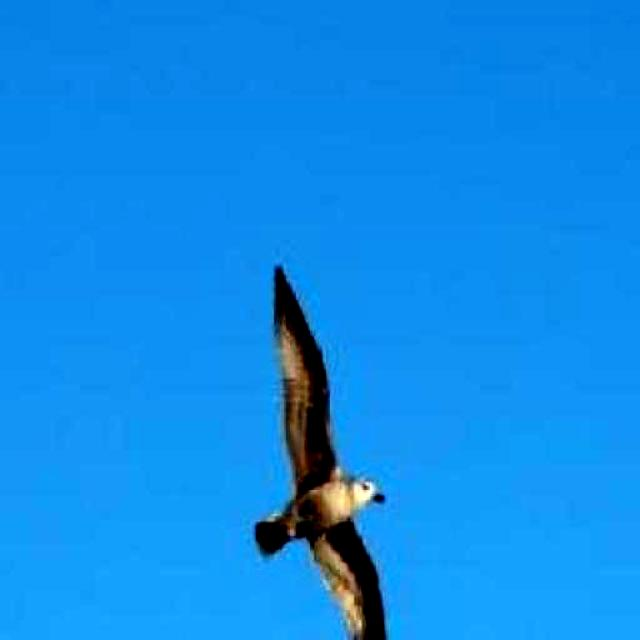airplane: (250, 262, 396, 640)
